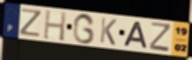A: (122, 20, 149, 50)
G: (72, 12, 97, 45)
H: (42, 9, 68, 43)
K: (98, 16, 118, 47)
Z: (148, 21, 173, 54), (18, 8, 44, 39)
